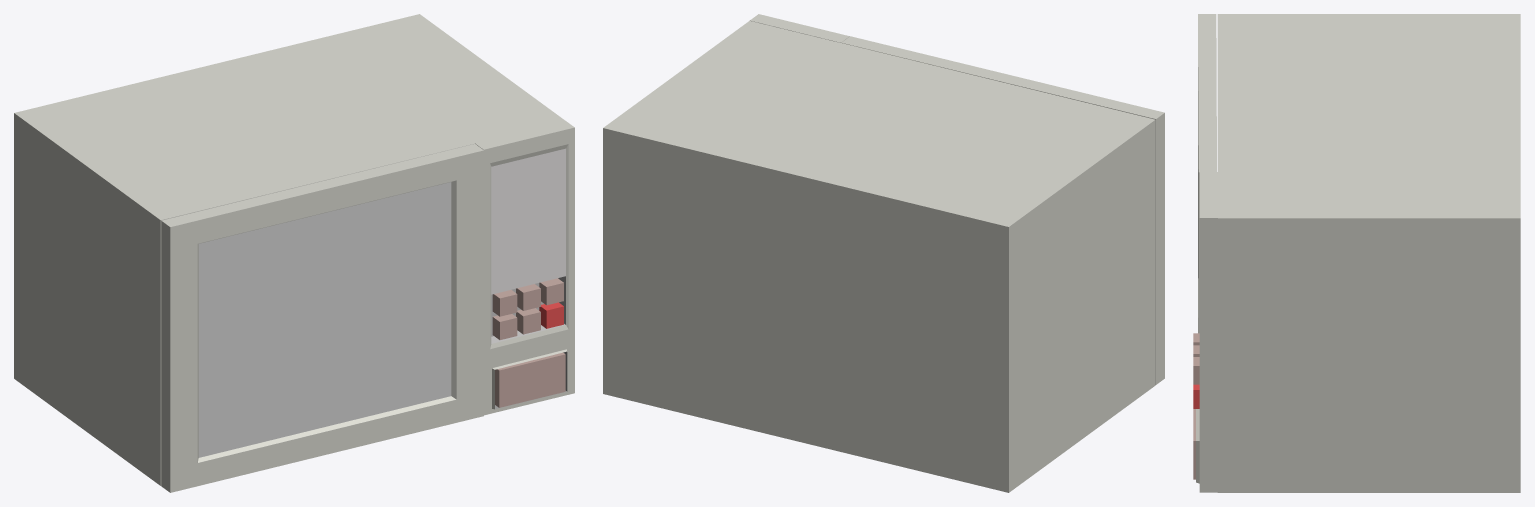
Rendered from Microwave2.fbx.
The picture shows the model from 3 angles, left to right: view 1: azimuth 30°, elevation 25°; view 2: azimuth 150°, elevation 25°; view 3: azimuth 270°, elevation 25°; orthographic projection. The views are drawn at different scales.
Parts seen in each view (by area): view 1: pCube1, pCube2, pCube3, pCube4; view 2: pCube1, pCube2, pCube3; view 3: pCube1, pCube3, pCube2.
Boxes of the visible parts, <box> form: pCube1: <box>14,14,565,485</box>; pCube2: <box>161,144,483,492</box>; pCube3: <box>475,121,574,415</box>; pCube4: <box>495,352,565,407</box>; pCube1: <box>603,21,1155,492</box>; pCube2: <box>842,36,1164,384</box>; pCube3: <box>750,14,849,42</box>; pCube1: <box>1217,14,1520,492</box>; pCube3: <box>1196,172,1217,492</box>; pCube2: <box>1198,14,1216,333</box>.
Size of the model in its own units: 67.78 by 42.49 by 45.83.
